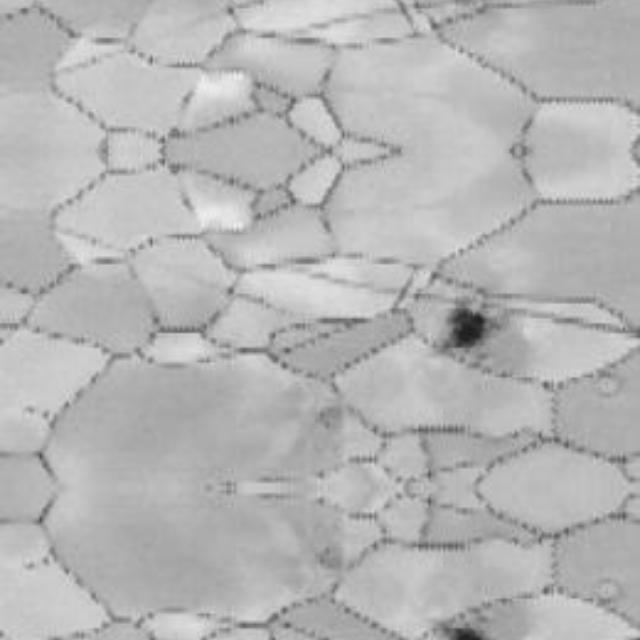good_void: (443, 304, 491, 356), (443, 622, 488, 640)
